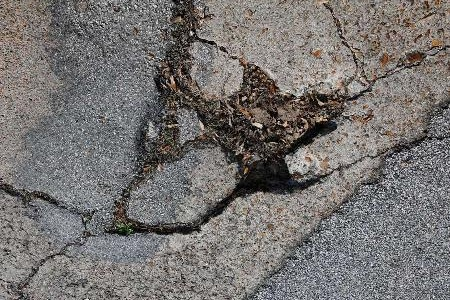pothole: (102, 30, 347, 240)
